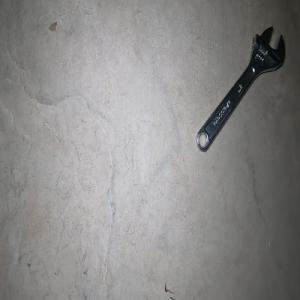Wrench: (196, 26, 285, 152)
